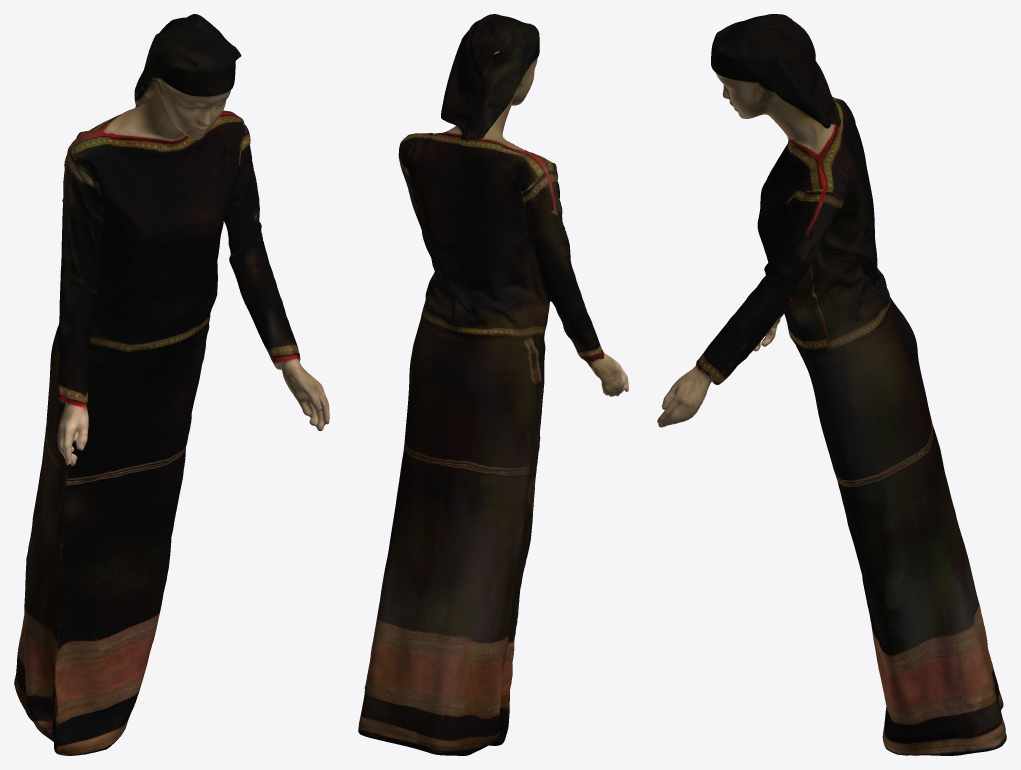
Rendered from Y_phục_nữ_dân_tộc_Mnông.gltf.
3 renders of one model, left to right at view 1: azimuth 30°, elevation 25°; view 2: azimuth 150°, elevation 25°; view 3: azimuth 270°, elevation 25°, orthographic. The views are drawn at different scales.
Visible parts, largest first — view 1: GeometryNode_15, GeometryNode_3; view 2: GeometryNode_3, GeometryNode_15; view 3: GeometryNode_15, GeometryNode_3.
Boxes of the visible parts, x1,y1,x2,y2 form: GeometryNode_15: (37,14,329,755); GeometryNode_3: (14,14,300,755); GeometryNode_3: (358,15,624,755); GeometryNode_15: (358,14,628,745); GeometryNode_15: (657,14,1006,755); GeometryNode_3: (706,15,1006,755).
Size of the model in its own units: 120 by 394 by 167.
1 material, 1 textured.
